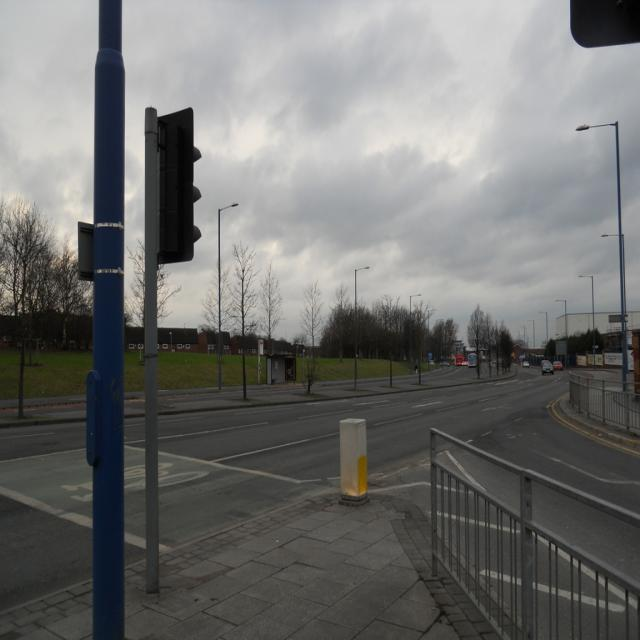off traffic light: (157, 107, 202, 268)
